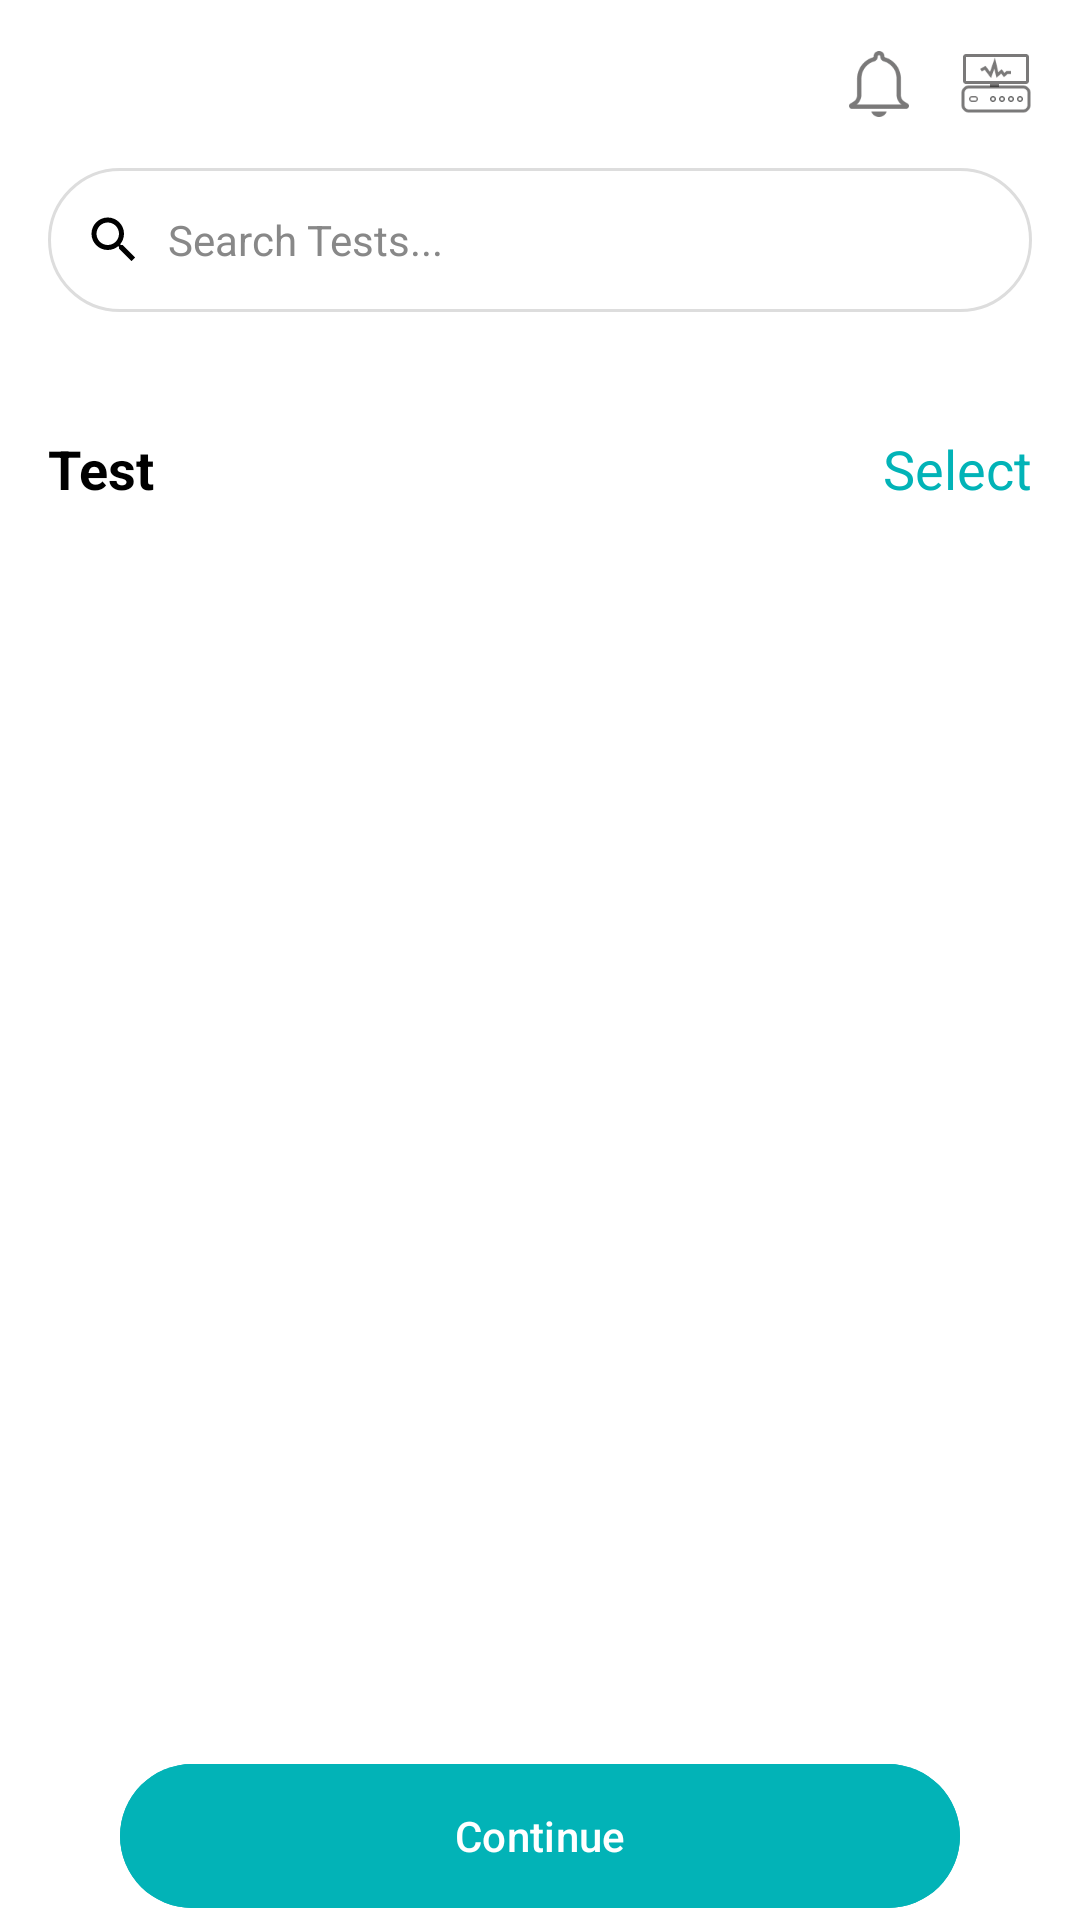

Screen size 1080w x 1920h. Icon name, then its box in pixels as (x1, y1, x2, y2):
device info: (961, 54, 1031, 113)
notification: (849, 51, 909, 117)
